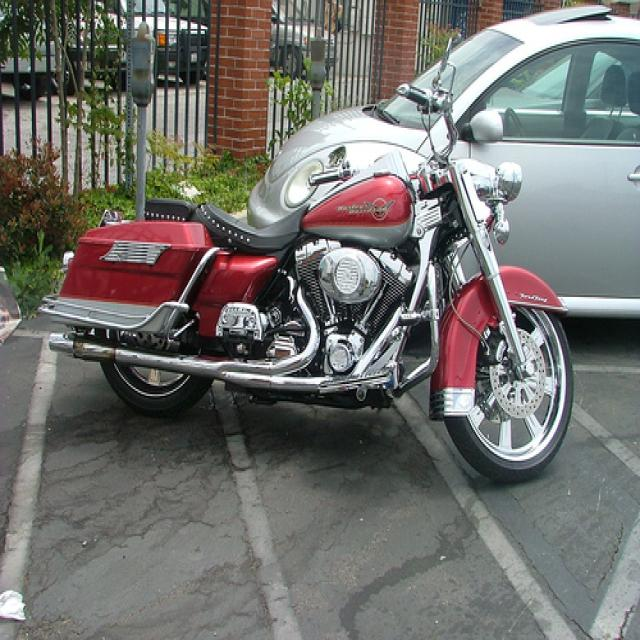motor: (44, 36, 576, 475)
